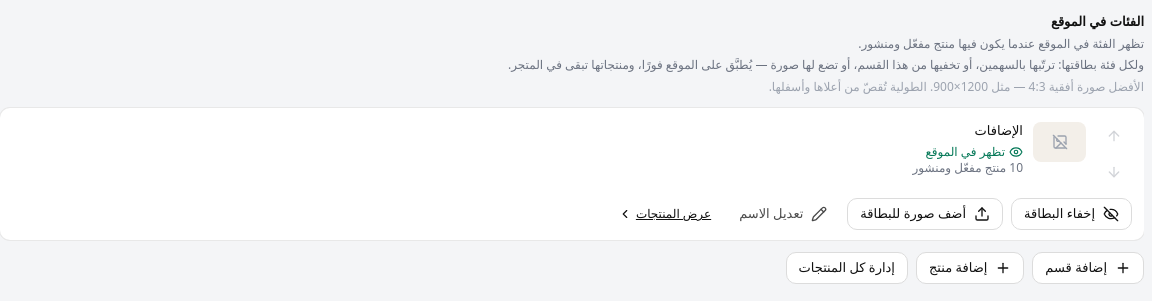
Scenario: بطاقةُ القسم في «تسوّق حسب الفئة» › تُخفى البطاقةُ بضغطة — فيُقال إنّ أصنافها باقية، وتُعاد المعاينة
The width and height of the screenshot is (1152, 301).
Click the button "إخفاء البطاقة": (1072, 214) x1=1011 y1=198 x2=1132 y2=230
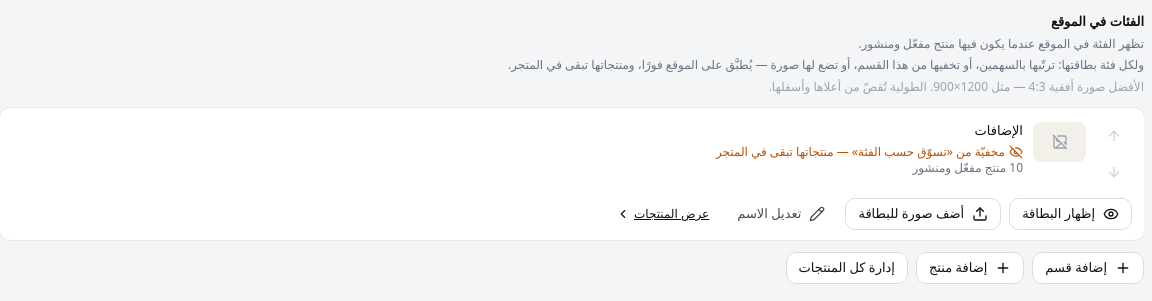
Expected: the text "10 منتج مفعّل ومنشور" is shown, x1=913 y1=159 x2=1023 y2=176
Result: the text "مخفيّة من «تسوّق حسب الفئة» — منتجاتها تبقى في المتجر" is shown at x1=716 y1=144 x2=1005 y2=160
